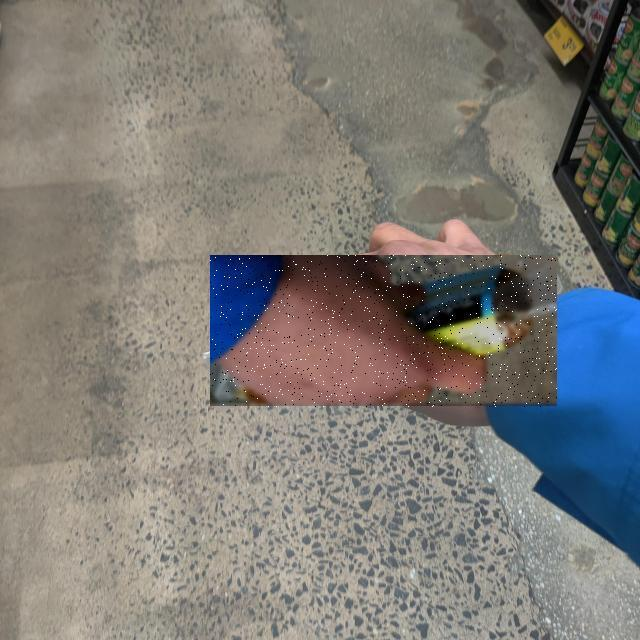Meat: (210, 256, 557, 408)
